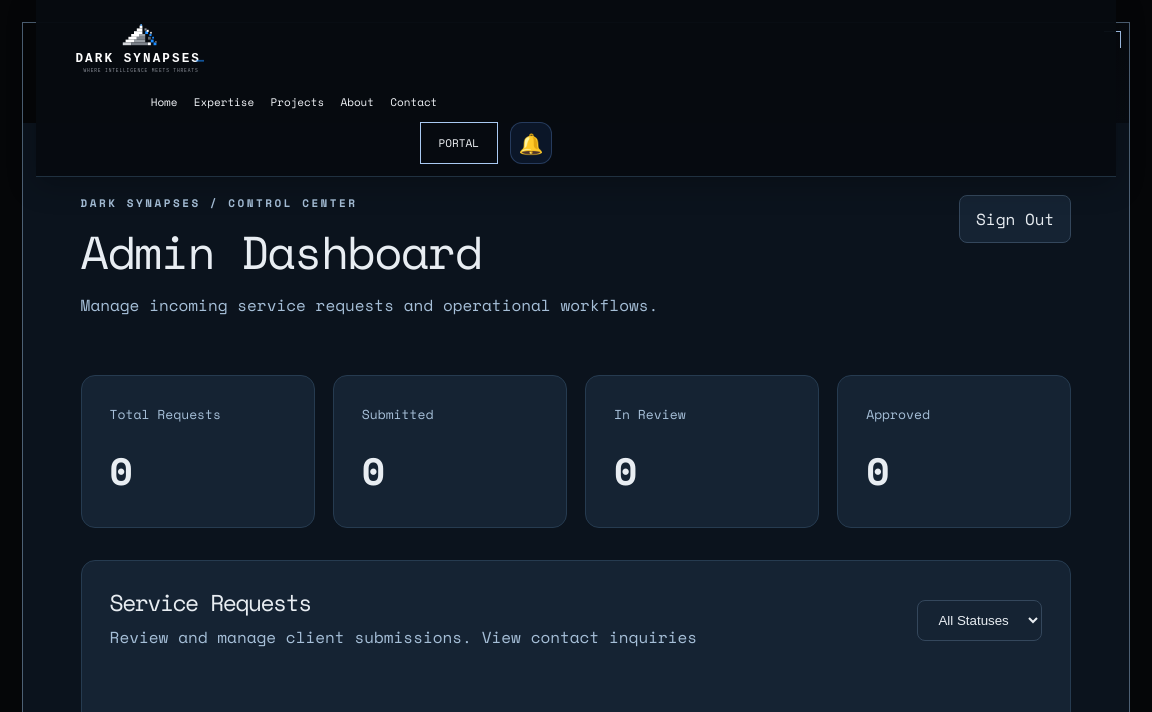
opens the contact inbox from the dashboard and renders inquiry details
Click the link "View contact inquiries". click: (589, 637)
box: top-left (482, 625), bottom-right (697, 649)
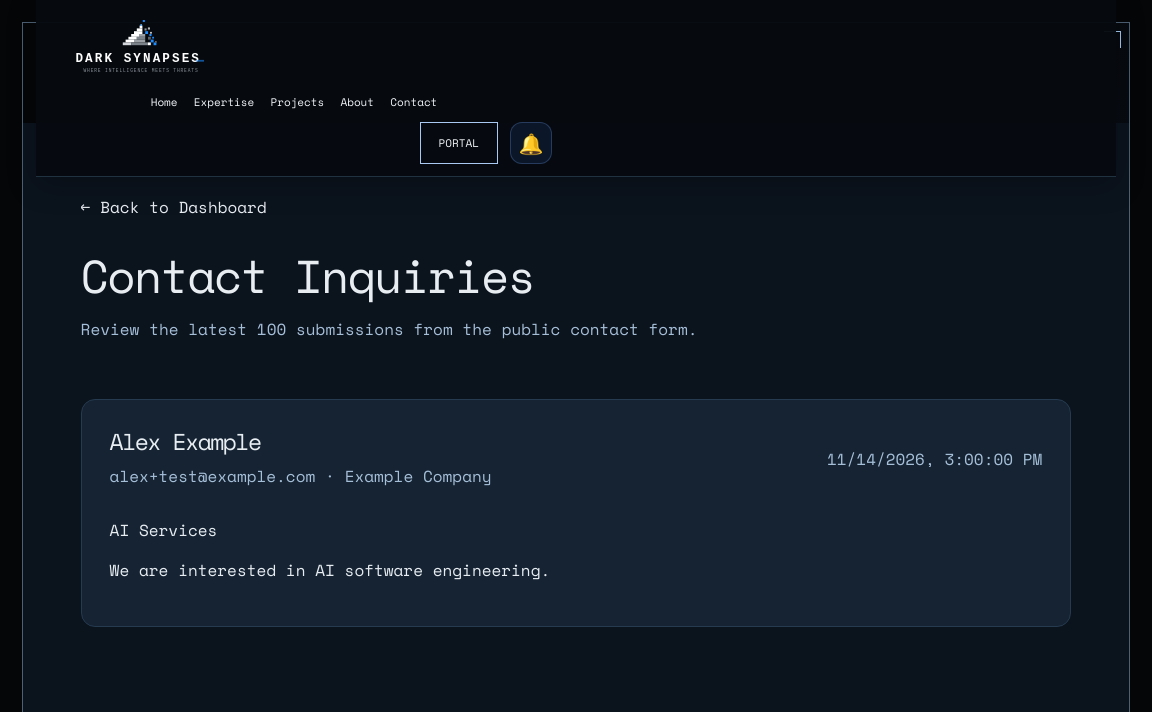
Check: the heading "Alex Example" is shown, box top-left (110, 424), bottom-right (260, 458)
Check: the text "Example Company" is shown, box top-left (345, 464), bottom-right (492, 488)
Check: the text "We are interested in AI software engineering." is shown, box top-left (110, 558), bottom-right (550, 582)
